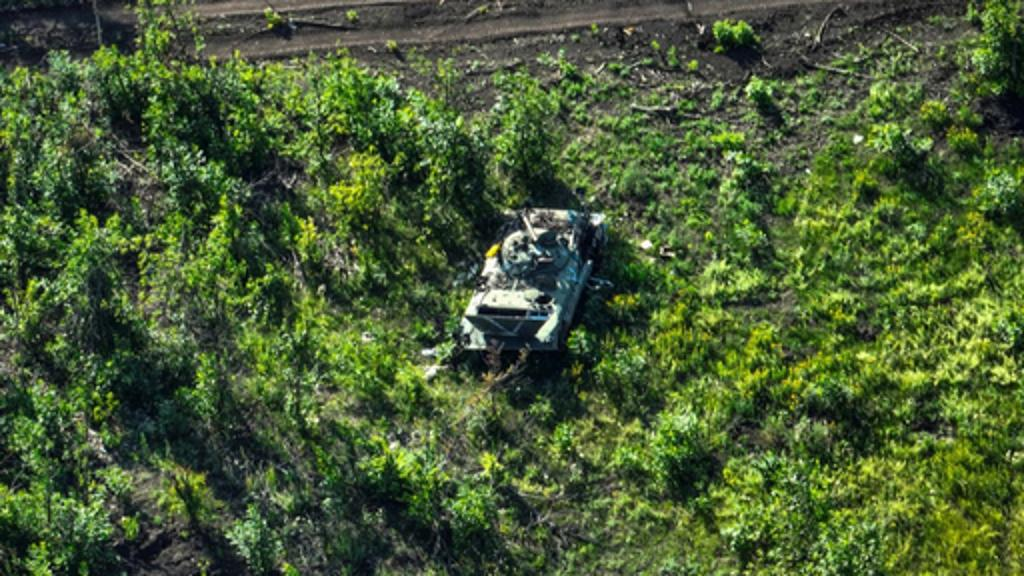APC-IFV: (436, 196, 604, 356)
